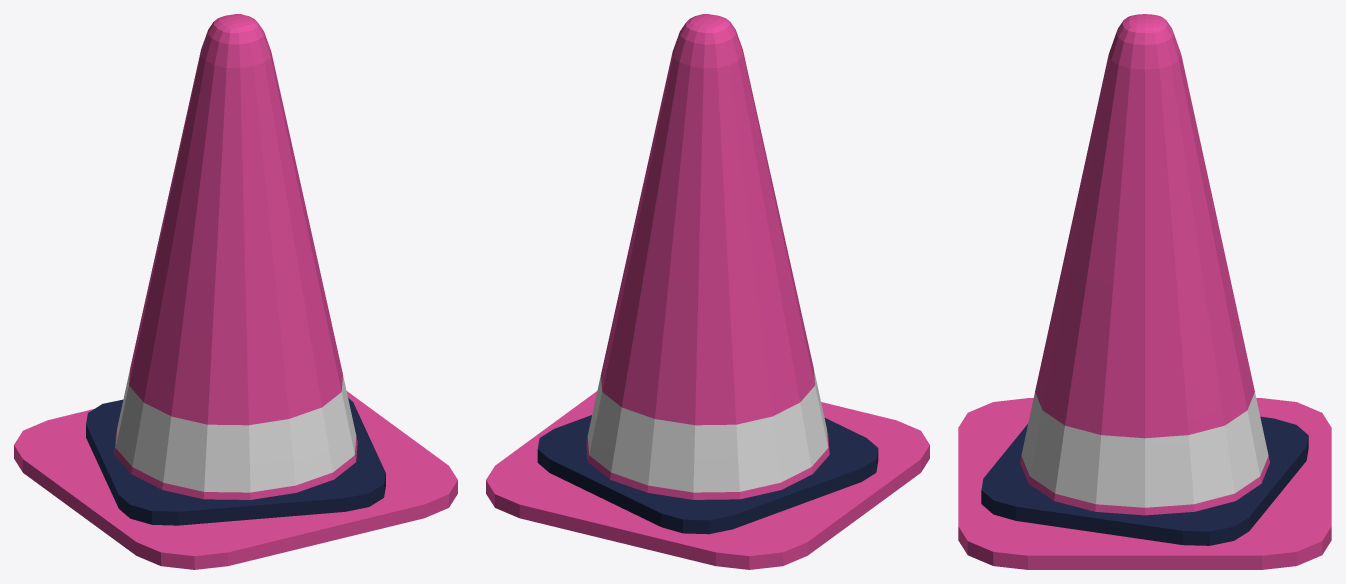
The model's file is TrafficCone.fbx.
3 renders of one model, left to right at view 1: azimuth 30°, elevation 25°; view 2: azimuth 150°, elevation 25°; view 3: azimuth 270°, elevation 25°, orthographic. The views are drawn at different scales.
Parts seen in each view (by area): view 1: TrafficCone; view 2: TrafficCone; view 3: TrafficCone.
Boxes of the visible parts, bbox=[...] form: TrafficCone: bbox=[14, 14, 457, 569]; TrafficCone: bbox=[486, 14, 929, 569]; TrafficCone: bbox=[958, 14, 1331, 569].
Size of the model in its own units: 0.3034 by 0.4235 by 0.3034.
